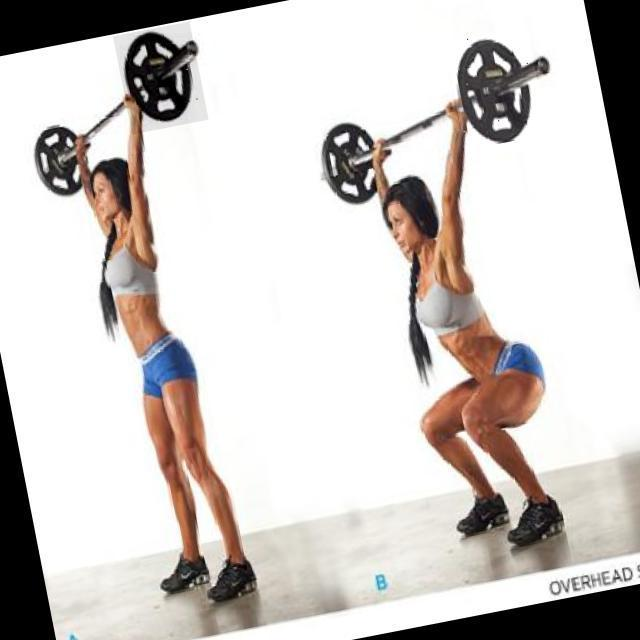barbell: (446, 27, 551, 161), (114, 23, 210, 136)
